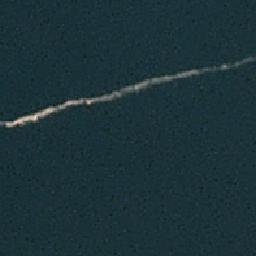debris: (126, 69, 202, 92), (61, 87, 124, 109), (1, 106, 60, 126), (202, 57, 256, 71)
